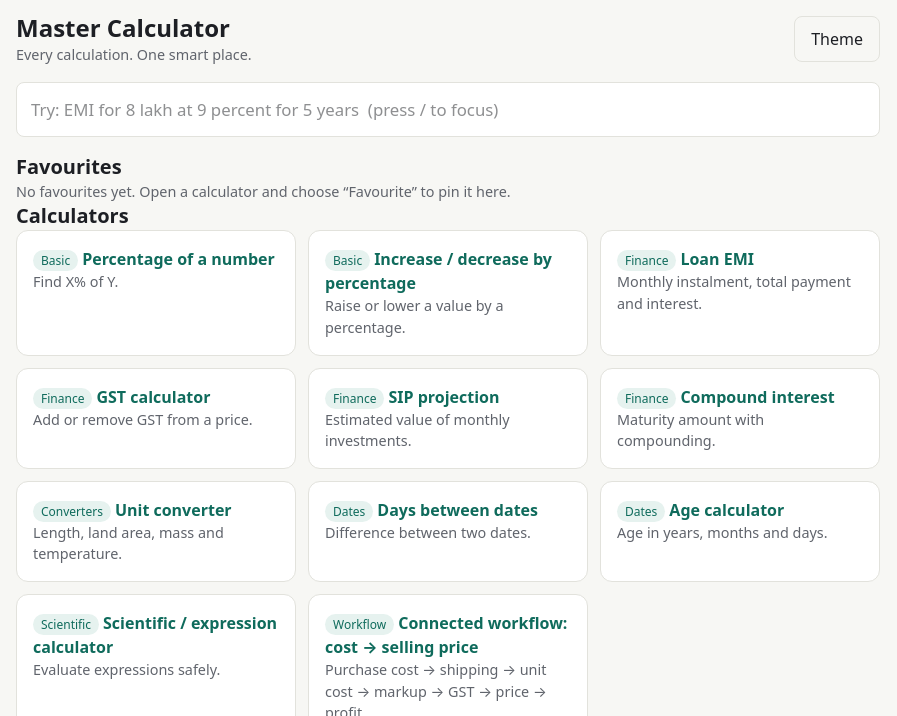
app integration › search: "18 percent of 2500" opens the percentage calculator prefilled with 450
Replace the text in the dropdown with "18 percent of 2500" at (448, 109), box [16, 82, 880, 137]
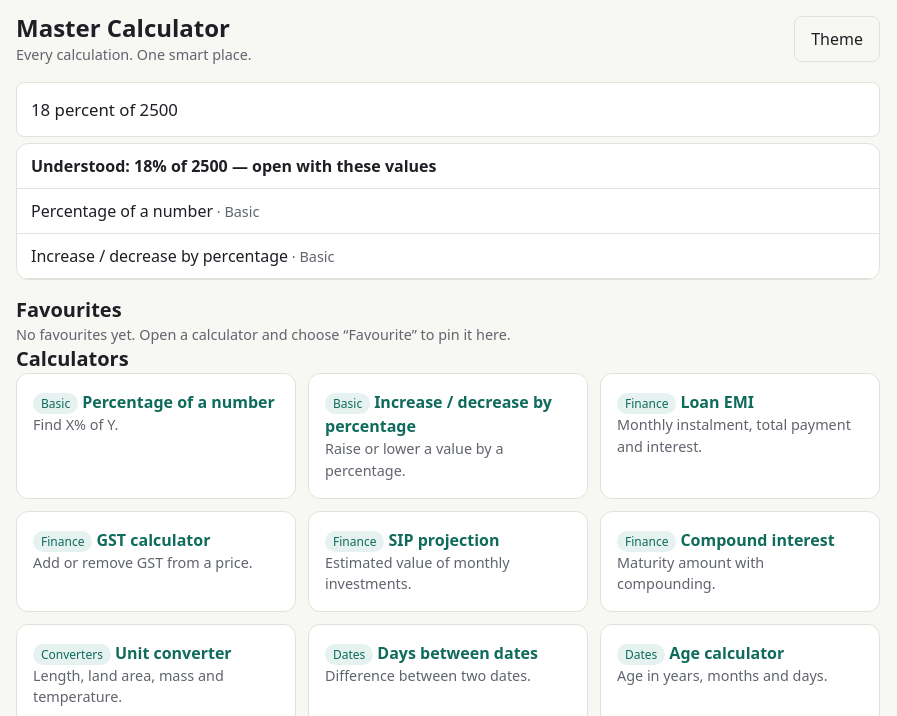
Check: the option "Understood: 18% of 2500 — open with these values" is shown, box [17, 144, 879, 189]
Press Enter in the dropdown, box [16, 82, 880, 137]
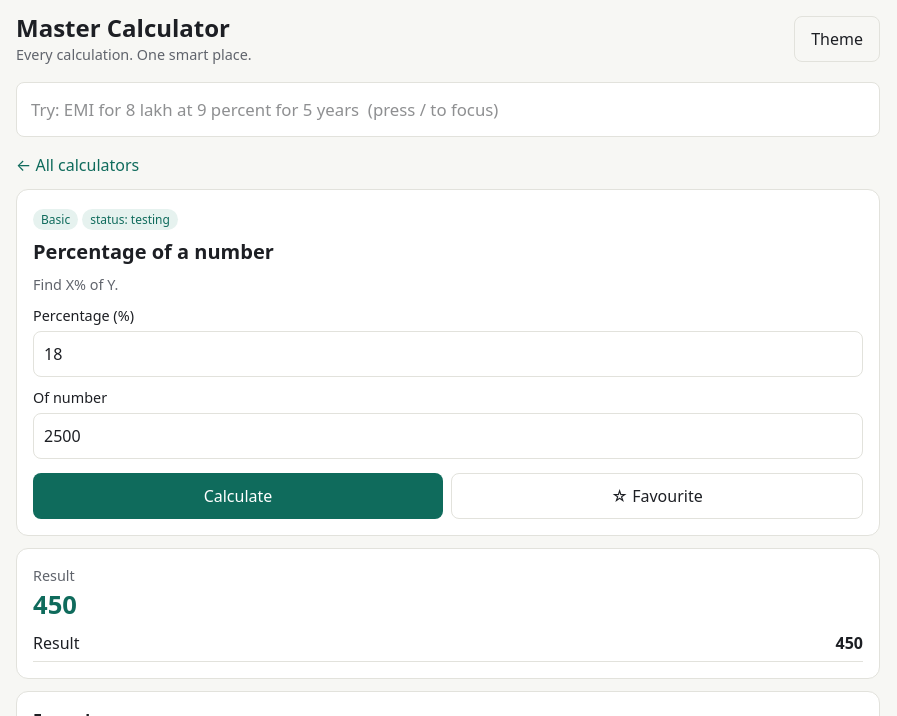
Check: the text with test id "main-result" reads "450", box [33, 587, 77, 622]
Check: the field labelled "Percentage (%)" holds "18", box [33, 331, 863, 377]
